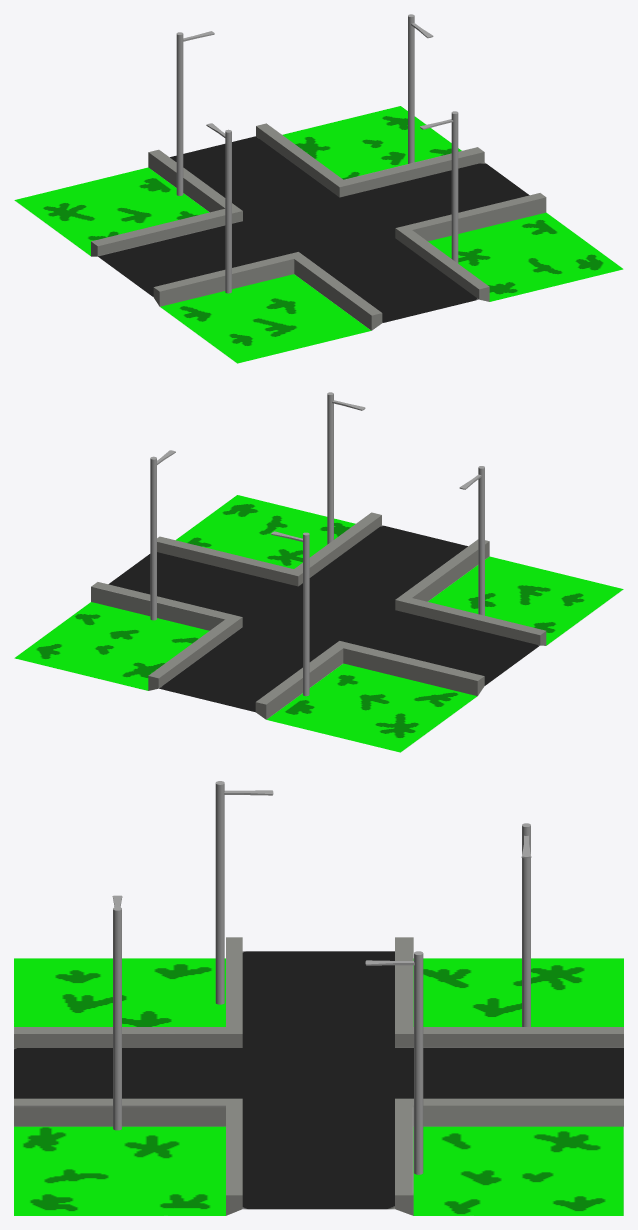
Rendered from EstradaCruzamento.glb.
3 views of the same model, one above another, from view 1: azimuth 30°, elevation 25°; view 2: azimuth 150°, elevation 25°; view 3: azimuth 270°, elevation 25° (orthographic). The views are drawn at different scales.
Visible parts, largest first — view 1: EstradaJoin; view 2: EstradaJoin; view 3: EstradaJoin.
Boxes of the visible parts, left/top/right/bottom form: EstradaJoin: left=14, top=14, right=623, bottom=363; EstradaJoin: left=14, top=392, right=623, bottom=752; EstradaJoin: left=14, top=781, right=623, bottom=1215.
Size of the model in its own units: 2 by 0.8 by 2.
Materials: 1 (1 with a texture image).
